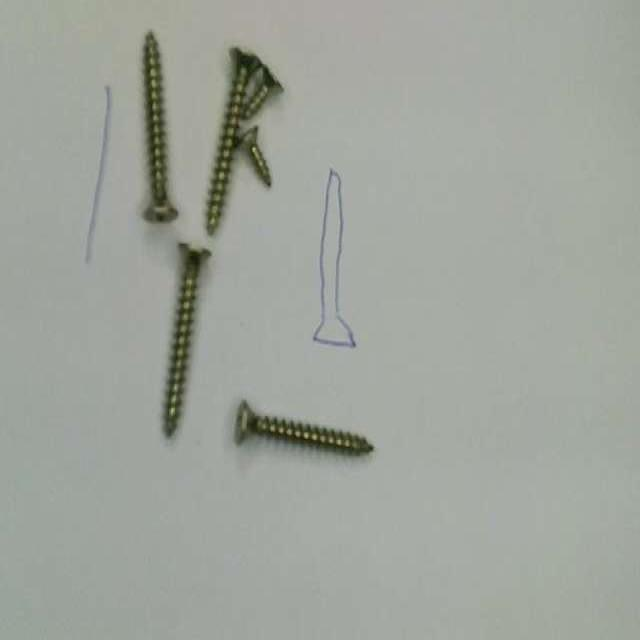Parafuso: (207, 47, 260, 233), (164, 243, 210, 436), (236, 400, 373, 455), (143, 31, 177, 221), (242, 65, 283, 117), (236, 127, 270, 185)
